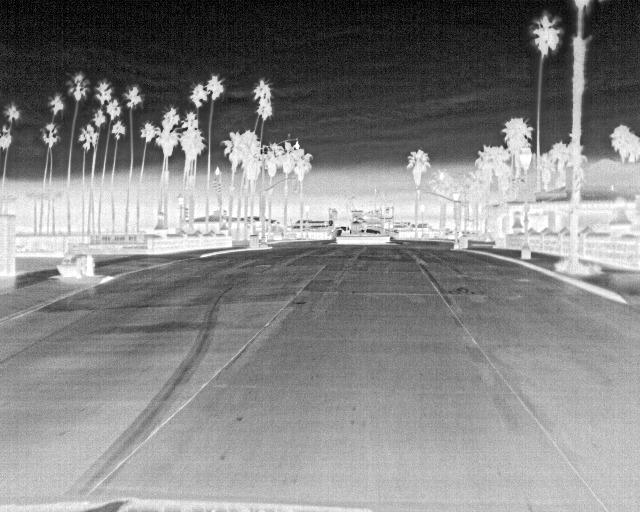car: (340, 227, 350, 233)
light: (453, 201, 461, 220), (292, 174, 300, 191), (259, 210, 263, 220), (263, 208, 267, 218), (223, 210, 227, 219), (417, 190, 421, 199), (214, 179, 217, 189), (185, 208, 188, 217), (218, 184, 221, 192)
sign: (520, 184, 533, 195), (517, 195, 535, 202), (329, 220, 333, 226), (400, 222, 404, 226)
